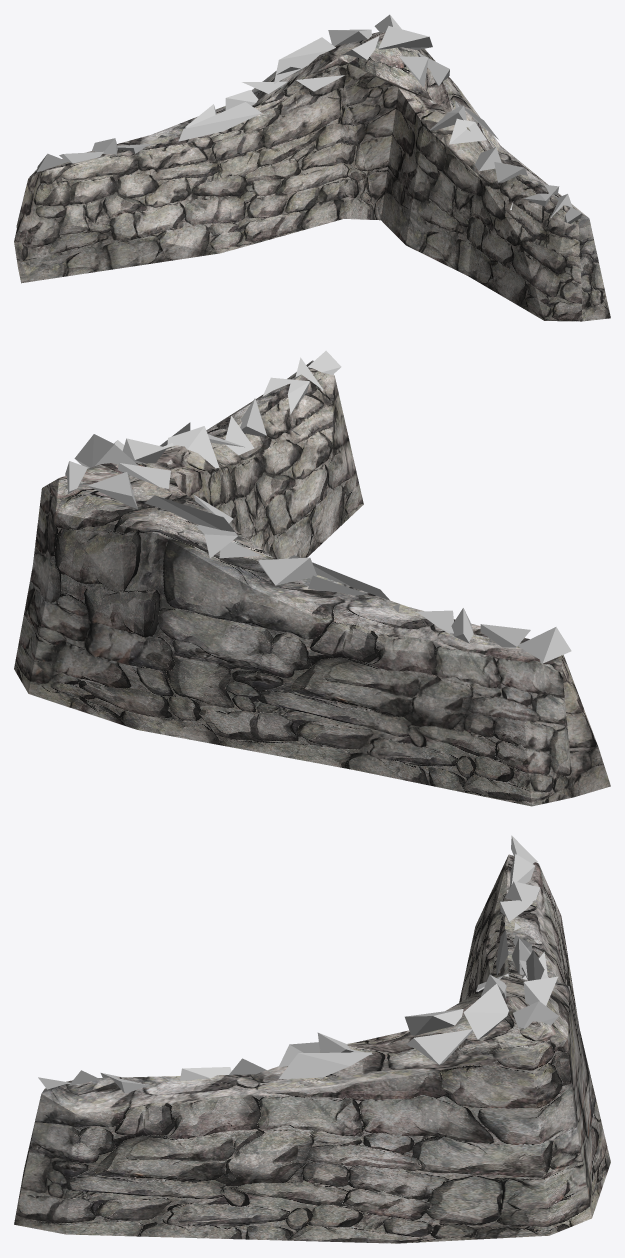
Rendered from Wall_3_LOD3.fbx.
The picture shows the model from 3 angles, top to bottom: view 1: azimuth 30°, elevation 25°; view 2: azimuth 150°, elevation 25°; view 3: azimuth 270°, elevation 25°; orthographic projection. The views are drawn at different scales.
Parts seen in each view (by area): view 1: Wall, Rock; view 2: Wall, Rock; view 3: Wall, Rock.
Boxes of the visible parts, x1=… form: Wall: x1=14, y1=31, x2=610, y2=321; Rock: x1=36, y1=14, x2=581, y2=223; Wall: x1=14, y1=360, x2=610, y2=806; Rock: x1=65, y1=350, x2=571, y2=663; Wall: x1=14, y1=854, x2=610, y2=1243; Rock: x1=38, y1=835, x2=558, y2=1093.
Bounding box in the file's own units: 797 × 723 × 291.
